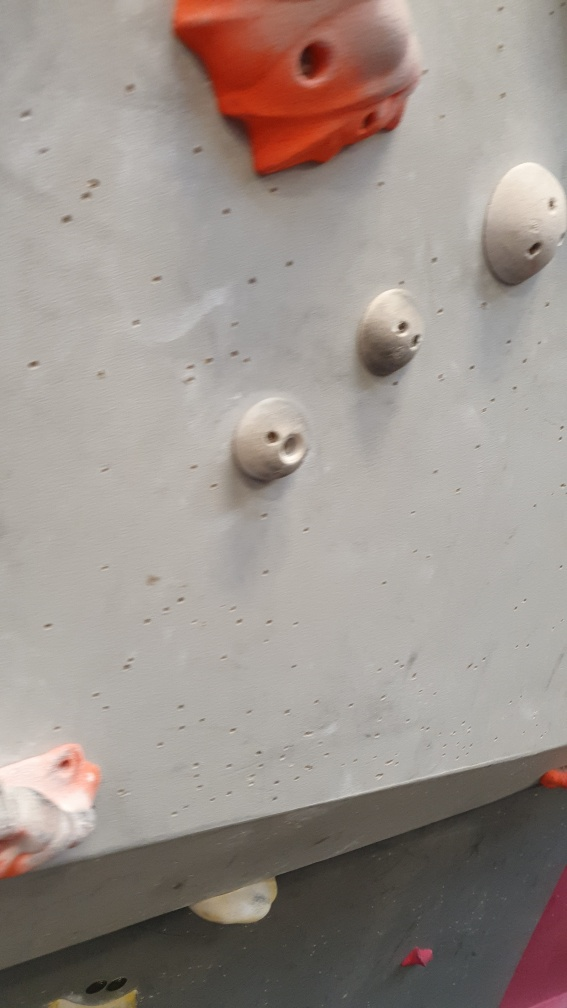Hand Start: (85, 971, 111, 1001), (105, 973, 130, 994)
Jug: (162, 1, 426, 189)
Sloper: (477, 162, 566, 295), (349, 288, 431, 381), (235, 399, 317, 491)
